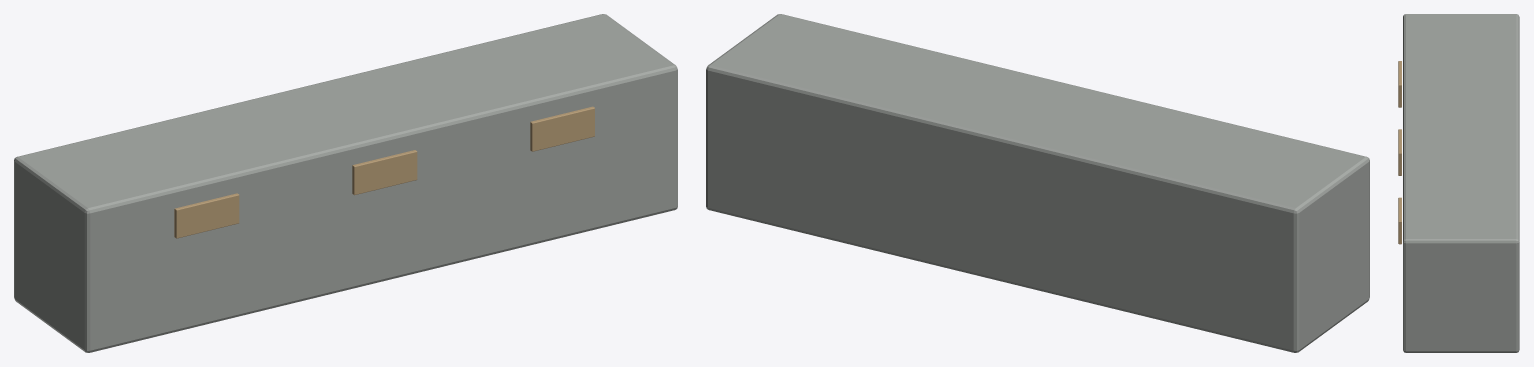
The model's file is service_barrier.glb.
3 views of the same model, side by side, from view 1: azimuth 30°, elevation 25°; view 2: azimuth 150°, elevation 25°; view 3: azimuth 270°, elevation 25° (orthographic). The views are drawn at different scales.
Visible parts, largest first — view 1: service_barrier; view 2: service_barrier; view 3: service_barrier.
Part boxes in pixels (x1=…): service_barrier: x1=14, y1=14, x2=677, y2=352; service_barrier: x1=706, y1=14, x2=1369, y2=352; service_barrier: x1=1398, y1=14, x2=1519, y2=352.
Bounding box in the file's own units: 3 × 0.7 × 0.675.
